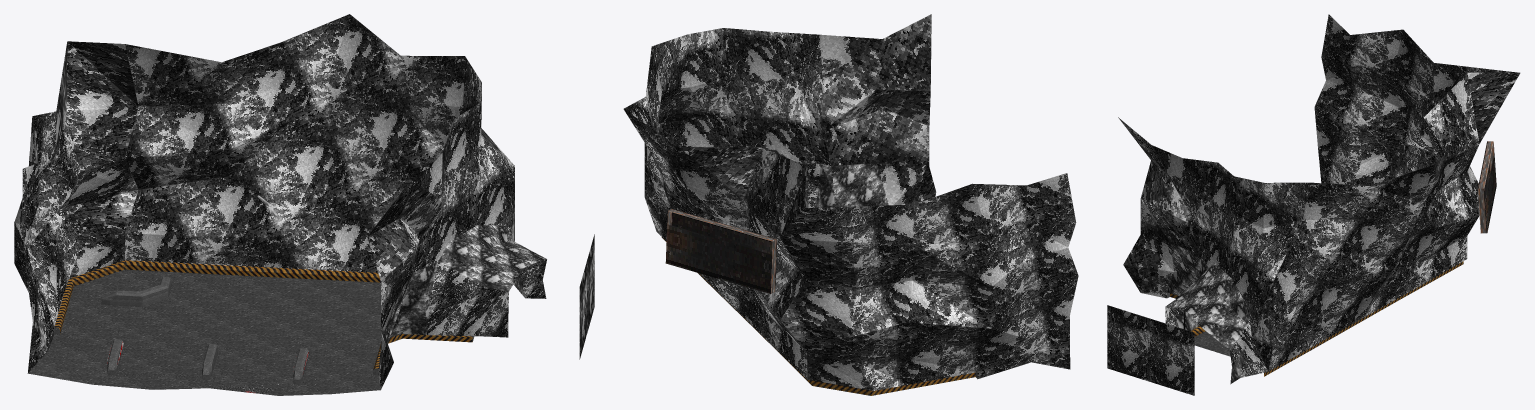
File: dam4.obj
3 renders of one model, left to right at view 1: azimuth 30°, elevation 25°; view 2: azimuth 150°, elevation 25°; view 3: azimuth 270°, elevation 25°, orthographic. The views are drawn at different scales.
Parts seen in each view (by area): view 1: 007_250FD62A_c.bmp, 005_58933A3F_c.bmp, 004_5C1FB8A7_c.bmp, 006_255D277A_c.bmp; view 2: 007_250FD62A_c.bmp, 002_4C6896E0_c.bmp, 001_2337F989_c.bmp, 004_5C1FB8A7_c.bmp, 000_5E4B8A9A_c.bmp; view 3: 007_250FD62A_c.bmp, 004_5C1FB8A7_c.bmp, 000_5E4B8A9A_c.bmp, 005_58933A3F_c.bmp, 002_4C6896E0_c.bmp.
Part boxes in pixels (left/top/right/bottom): 007_250FD62A_c.bmp: left=14, top=14, right=594, bottom=389; 005_58933A3F_c.bmp: left=28, top=269, right=474, bottom=395; 004_5C1FB8A7_c.bmp: left=54, top=260, right=472, bottom=369; 006_255D277A_c.bmp: left=54, top=276, right=378, bottom=384; 007_250FD62A_c.bmp: left=623, top=14, right=1078, bottom=390; 002_4C6896E0_c.bmp: left=666, top=222, right=772, bottom=280; 001_2337F989_c.bmp: left=665, top=212, right=772, bottom=293; 004_5C1FB8A7_c.bmp: left=661, top=237, right=975, bottom=395; 000_5E4B8A9A_c.bmp: left=667, top=209, right=776, bottom=293; 007_250FD62A_c.bmp: left=1107, top=14, right=1520, bottom=395; 004_5C1FB8A7_c.bmp: left=1170, top=261, right=1463, bottom=376; 000_5E4B8A9A_c.bmp: left=1477, top=141, right=1494, bottom=233; 005_58933A3F_c.bmp: left=1194, top=321, right=1361, bottom=359; 002_4C6896E0_c.bmp: left=1484, top=153, right=1495, bottom=220.
Bounding box in the file's own units: 0.8081 × 0.3458 × 0.6728.
